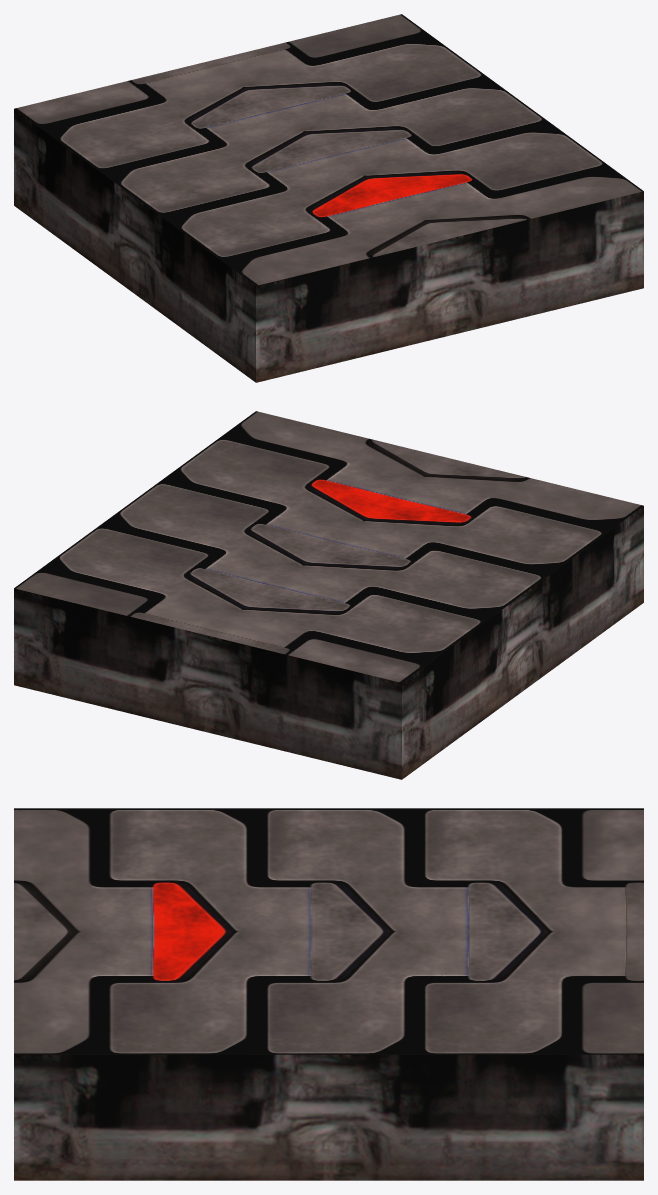
Rendered from fast-transport-belt.glb.
3 views of the same model, one above another, from view 1: azimuth 30°, elevation 25°; view 2: azimuth 150°, elevation 25°; view 3: azimuth 270°, elevation 25° (orthographic). The views are drawn at different scales.
Visible parts, largest first — view 1: body; view 2: body; view 3: body.
Boxes of the visible parts, box(x1,y1,x2,y2) form: body: box(14, 14, 643, 382); body: box(14, 411, 643, 779); body: box(14, 808, 643, 1180).
Size of the model in its own units: 0.925 by 0.2209 by 1.
2 materials, 2 textured.
